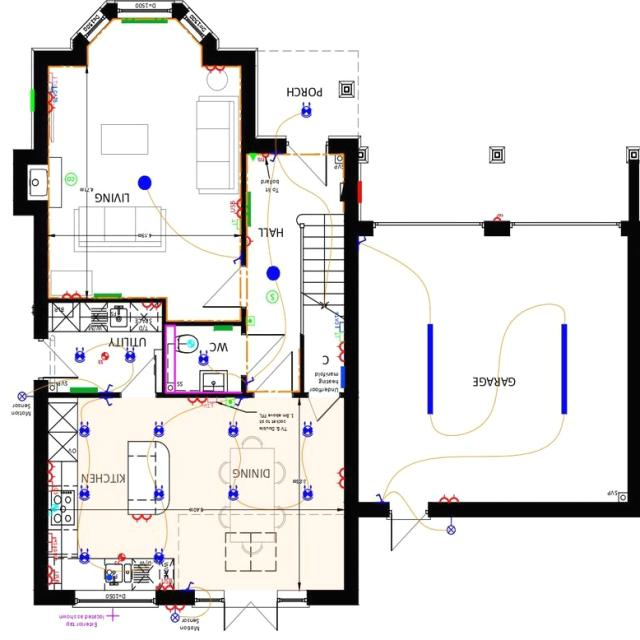BT Entry Point: (246, 153, 257, 165)
Cat 6 Data Socket: (331, 317, 344, 332), (47, 83, 60, 94)
Ceiling Mounted Continuous Extract Fan With Boost Mode Activated By Light Switch: (185, 338, 196, 351)
Ceiling Mounted Continuous Extract Fan With Local Boost Switch: (96, 351, 110, 369), (112, 554, 129, 566)
Co-Ax TV Socket: (46, 72, 60, 83), (206, 398, 218, 409)
Consumer Unit: (336, 180, 344, 206)
Double Socket: (44, 461, 62, 483), (128, 513, 152, 528), (58, 290, 83, 304), (333, 342, 345, 364), (47, 94, 60, 114), (140, 302, 163, 313), (336, 465, 344, 493), (201, 66, 228, 74), (163, 606, 187, 614), (187, 399, 206, 408)
Electric Meter Box: (356, 178, 362, 209)
External Wall Light: (440, 517, 461, 539), (11, 388, 33, 407), (169, 605, 181, 627), (438, 493, 460, 504)
Fused spur: (257, 154, 270, 164)
Gas Meter Box: (26, 84, 36, 116)
Grid Switch: (47, 544, 58, 557)
Hob Switch: (45, 532, 59, 544)
Light Switch: (371, 490, 390, 505), (101, 382, 119, 396), (245, 374, 258, 391), (356, 236, 370, 249), (230, 251, 240, 268), (182, 580, 198, 590), (100, 398, 114, 409), (234, 397, 245, 408), (271, 154, 281, 163)
Low Energy Pendant Light: (260, 258, 284, 286), (149, 414, 169, 445), (300, 414, 318, 448), (75, 540, 94, 571), (75, 477, 94, 507), (223, 417, 243, 445), (298, 481, 316, 509), (149, 545, 167, 572), (193, 349, 214, 371), (136, 170, 153, 197), (223, 480, 243, 502), (75, 419, 94, 442), (149, 483, 170, 503), (121, 346, 143, 365), (296, 100, 314, 122), (72, 345, 90, 367)
Mains Wired Smoke Detector: (264, 288, 279, 307), (245, 313, 258, 328)
Outside Socket: (486, 212, 505, 226)
Outside Tap: (102, 608, 124, 628)
Oven Switch: (47, 482, 62, 495)
Programmable Room Thermostat: (222, 399, 235, 410)
Radiator: (61, 386, 103, 396), (245, 189, 255, 231), (120, 21, 170, 28), (90, 292, 123, 300), (209, 326, 236, 334)
Recirculating Extractor Fan: (47, 502, 60, 520)
Single Socket: (244, 234, 254, 248)
Telephone Socket: (230, 218, 242, 234), (332, 332, 346, 344)
Twin LED Strip Light: (417, 319, 443, 423), (552, 317, 573, 418)
USB Double Socket: (153, 577, 180, 594), (45, 567, 63, 587), (228, 196, 242, 219)
Underfloor Heating Manifold: (336, 364, 344, 392)
Water Entry Position: (104, 573, 114, 583)
